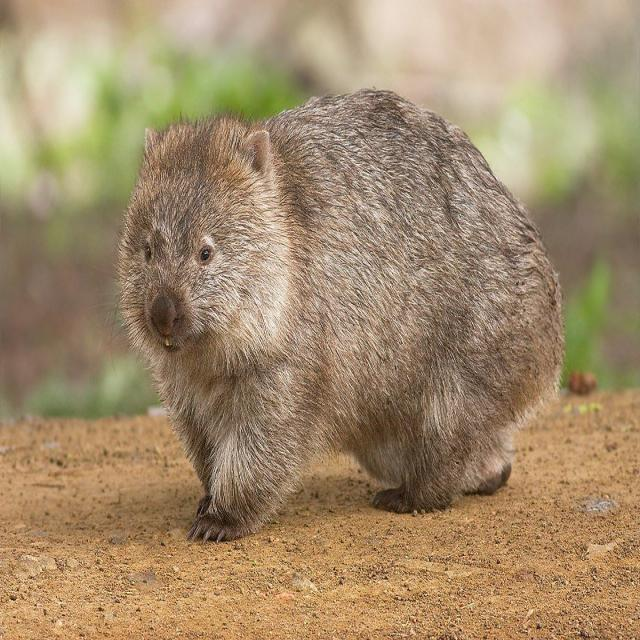Wombat: (118, 87, 567, 547)
